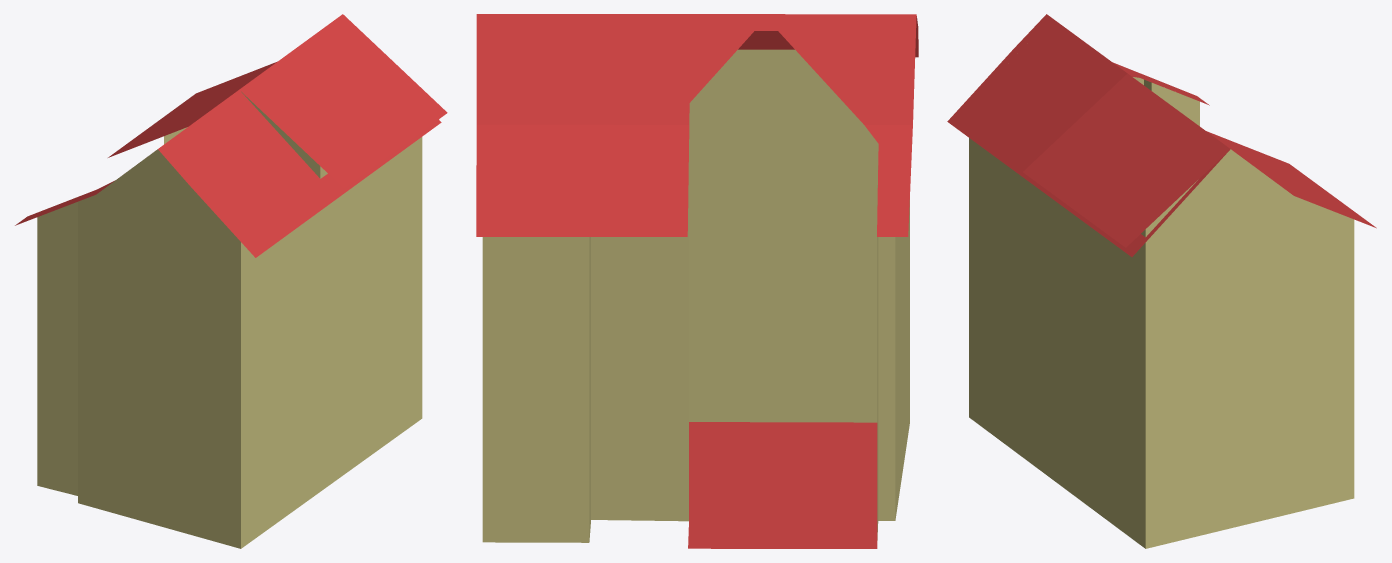
3 renders of one model, left to right at view 1: azimuth 30°, elevation 25°; view 2: azimuth 150°, elevation 25°; view 3: azimuth 270°, elevation 25°, orthographic. The views are drawn at different scales.
Bounding box in the file's own units: 20.75 × 19.47 × 19.05.
